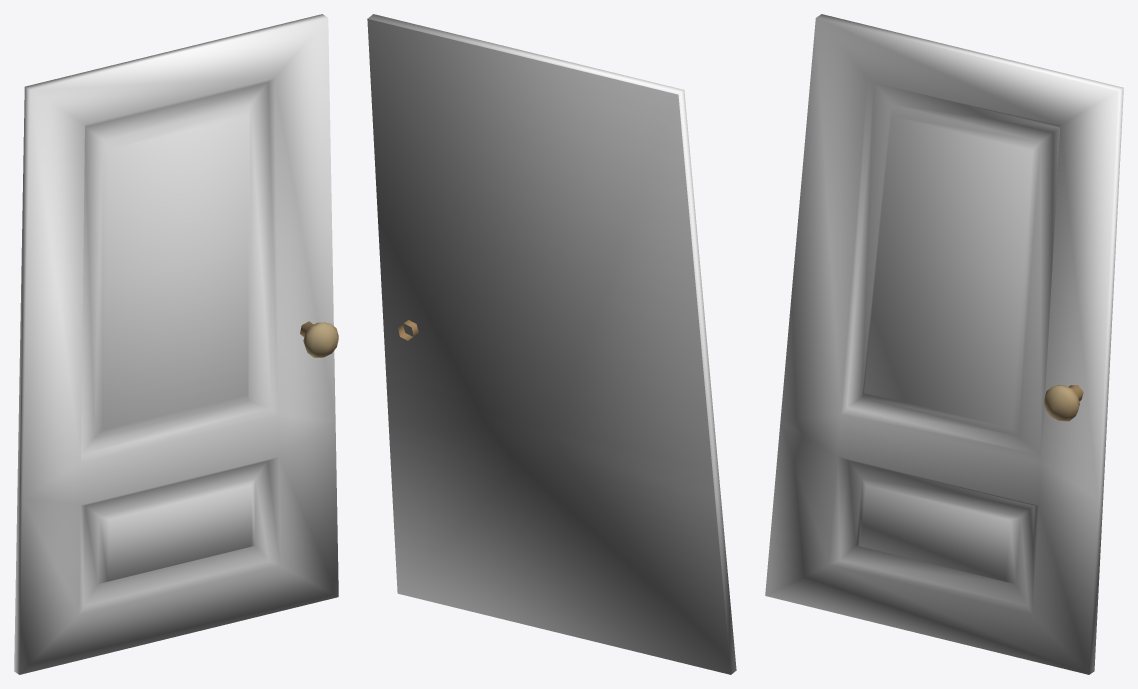
The model's file is OBJ_HouseDoor.glb.
3 renders of one model, left to right at view 1: azimuth 30°, elevation 25°; view 2: azimuth 150°, elevation 25°; view 3: azimuth 330°, elevation 25°, orthographic. The views are drawn at different scales.
Visible parts, largest first — view 1: OBJ_HouseDoor; view 2: OBJ_HouseDoor; view 3: OBJ_HouseDoor.
Boxes of the visible parts, <box> form: OBJ_HouseDoor: <box>14,14,338,674</box>; OBJ_HouseDoor: <box>367,14,736,674</box>; OBJ_HouseDoor: <box>765,14,1123,674</box>.
Bounding box in the file's own units: 17.3 × 28.36 × 3.49.
Materials: 1 (1 with a texture image).
